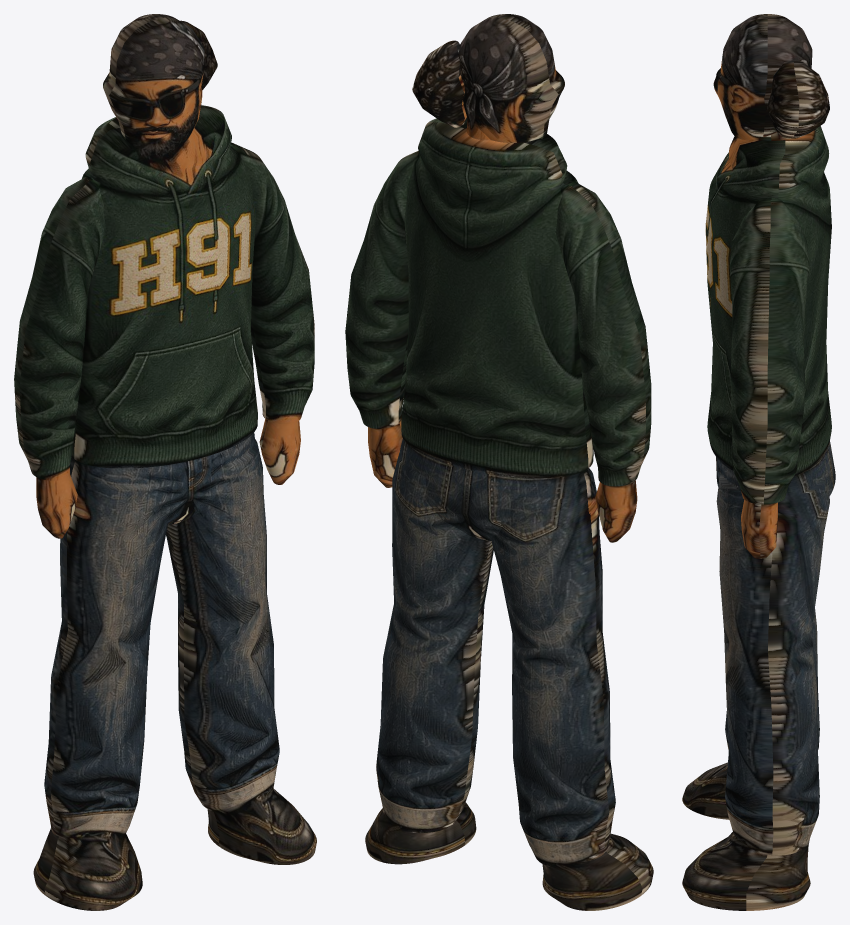
File: h91-hoodie.glb
3 renders of one model, left to right at view 1: azimuth 30°, elevation 25°; view 2: azimuth 150°, elevation 25°; view 3: azimuth 270°, elevation 25°, orthographic. The views are drawn at different scales.
Visible parts, largest first — view 1: H91 hoodie torso, Cuffed jeans -1, Cuffed jeans 1, H91 hoodie sleeve -1, H91 hoodie sleeve 1, Head and headscarf, Moc toe shoe -1, Denim seat, Moc toe shoe 1, Folded hood, Hand and forearm 1, Hand and forearm -1 (+1 smaller); view 2: H91 hoodie torso, Cuffed jeans -1, Cuffed jeans 1, H91 hoodie sleeve -1, H91 hoodie sleeve 1, Head and headscarf, Folded hood, Denim seat, Moc toe shoe -1, Moc toe shoe 1, Curly hair puff, Hand and forearm -1 (+1 smaller); view 3: Cuffed jeans 1, H91 hoodie sleeve 1, H91 hoodie torso, Head and headscarf, Moc toe shoe 1, Folded hood, Curly hair puff, Hand and forearm 1, Moc toe shoe -1, Denim seat, Cuffed jeans -1.
Boxes of the visible parts, x1=… form: H91 hoodie torso: x1=71, y1=146, x2=257, y2=468; Cuffed jeans -1: x1=44, y1=482, x2=167, y2=838; Cuffed jeans 1: x1=166, y1=439, x2=279, y2=811; H91 hoodie sleeve -1: x1=14, y1=175, x2=105, y2=480; H91 hoodie sleeve 1: x1=230, y1=142, x2=314, y2=424; Head and headscarf: x1=103, y1=14, x2=204, y2=153; Moc toe shoe -1: x1=33, y1=828, x2=142, y2=910; Denim seat: x1=70, y1=433, x2=254, y2=525; Moc toe shoe 1: x1=207, y1=788, x2=316, y2=864; Folded hood: x1=85, y1=105, x2=231, y2=179; Hand and forearm 1: x1=259, y1=419, x2=300, y2=484; Hand and forearm -1: x1=36, y1=474, x2=77, y2=538; H91 hoodie torso: x1=401, y1=157, x2=593, y2=478; Cuffed jeans -1: x1=491, y1=469, x2=615, y2=867; Cuffed jeans 1: x1=376, y1=453, x2=493, y2=833; H91 hoodie sleeve -1: x1=555, y1=181, x2=651, y2=486; H91 hoodie sleeve 1: x1=345, y1=151, x2=419, y2=428; Head and headscarf: x1=458, y1=14, x2=564, y2=142; Folded hood: x1=418, y1=117, x2=567, y2=196; Denim seat: x1=399, y1=438, x2=591, y2=540; Moc toe shoe -1: x1=542, y1=833, x2=653, y2=910; Moc toe shoe 1: x1=365, y1=802, x2=476, y2=864; Curly hair puff: x1=412, y1=40, x2=466, y2=127; Hand and forearm -1: x1=595, y1=480, x2=637, y2=542; Cuffed jeans 1: x1=716, y1=473, x2=829, y2=855; H91 hoodie sleeve 1: x1=729, y1=199, x2=809, y2=504; H91 hoodie torso: x1=705, y1=152, x2=831, y2=475; Head and headscarf: x1=713, y1=14, x2=812, y2=140; Moc toe shoe 1: x1=682, y1=832, x2=810, y2=910; Folded hood: x1=728, y1=126, x2=829, y2=198; Curly hair puff: x1=767, y1=61, x2=829, y2=138; Hand and forearm 1: x1=741, y1=500, x2=777, y2=558; Moc toe shoe -1: x1=682, y1=762, x2=729, y2=819; Denim seat: x1=716, y1=441, x2=835, y2=508; Cuffed jeans -1: x1=720, y1=528, x2=819, y2=749.
Bounding box in the file's own units: 0.6495 × 1.81 × 0.3028.
Materials: 1 (1 with a texture image).
